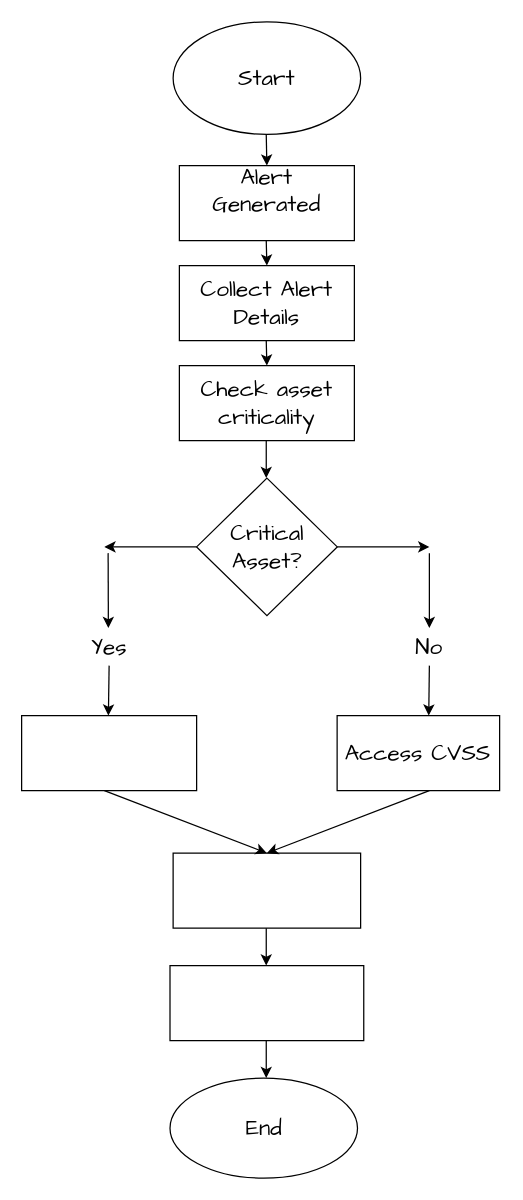
The diagram is 523 pixels wide and 1200 high, and some of its shapes have lost their labels. The shapes that lost their labels are listed below. From the top down, each one's centre as x and y in pixels, then its label:
At (108,752): "Assess Impact".
At (266,890): "Assign priority".
At (266,1002): "Create Ticket".
